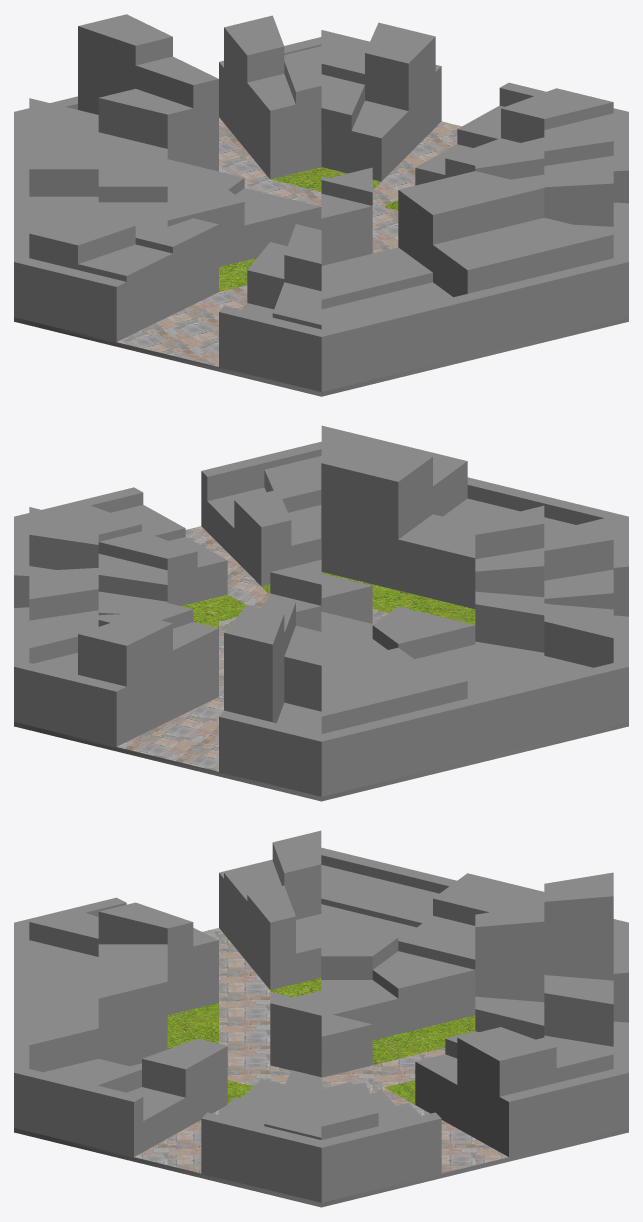
The picture shows the model from 3 angles, top to bottom: view 1: azimuth 30°, elevation 25°; view 2: azimuth 150°, elevation 25°; view 3: azimuth 270°, elevation 25°; orthographic projection.
Visible parts, largest first — view 1: Cylinder017; view 2: Cylinder017; view 3: Cylinder017.
Part boxes in pixels (x1,y1,x2,y2): Cylinder017: (14, 14, 628, 396); Cylinder017: (14, 425, 628, 801); Cylinder017: (14, 830, 628, 1207).
Bounding box in the file's own units: 140 × 29.9 × 121.
5 materials, 2 textured.
